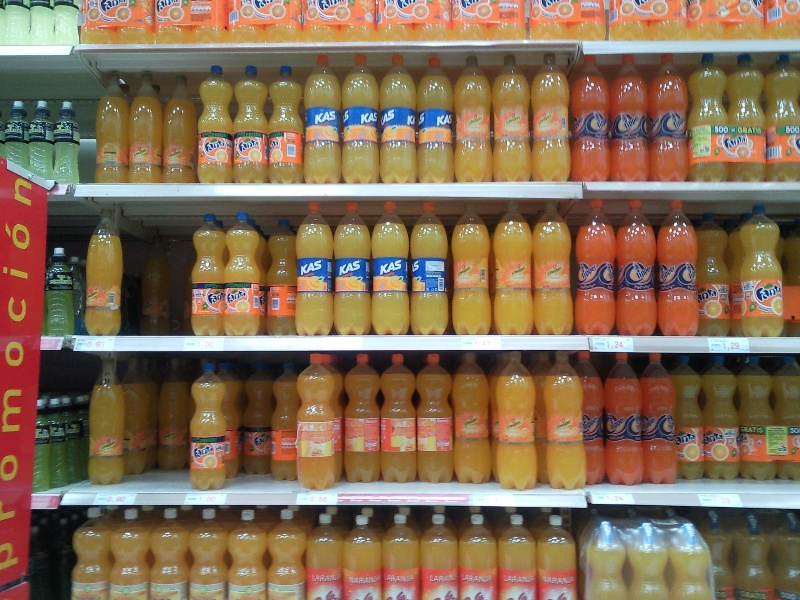lemonade: (525, 200, 583, 340), (572, 197, 627, 343), (488, 47, 541, 188), (615, 191, 664, 343), (738, 198, 790, 341), (294, 52, 348, 189), (653, 193, 703, 340), (602, 50, 656, 185), (365, 195, 415, 340), (373, 49, 423, 192), (541, 350, 591, 493), (80, 353, 132, 490), (402, 200, 453, 339), (526, 48, 576, 189), (410, 51, 461, 189), (185, 360, 236, 497), (328, 200, 378, 339), (450, 54, 501, 190), (567, 50, 617, 187), (488, 199, 536, 341), (446, 198, 494, 339), (411, 351, 460, 489), (294, 353, 341, 495), (337, 52, 385, 190), (294, 201, 341, 341), (377, 353, 426, 486), (494, 351, 540, 492), (700, 354, 748, 486), (218, 210, 267, 337), (227, 60, 275, 189), (606, 355, 651, 491), (188, 62, 237, 185), (187, 209, 232, 342), (82, 204, 126, 340), (343, 353, 388, 485), (414, 352, 457, 488), (262, 63, 309, 187)
